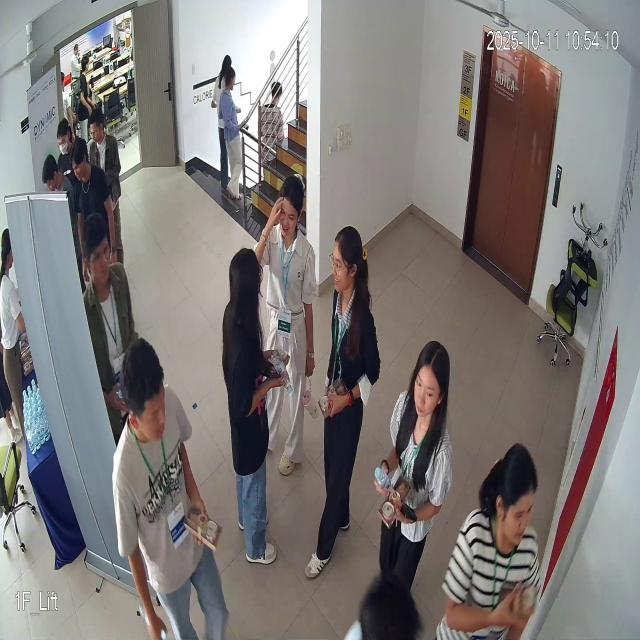face: (410, 333, 452, 425), (327, 218, 370, 304), (84, 210, 118, 294), (275, 170, 305, 244)
